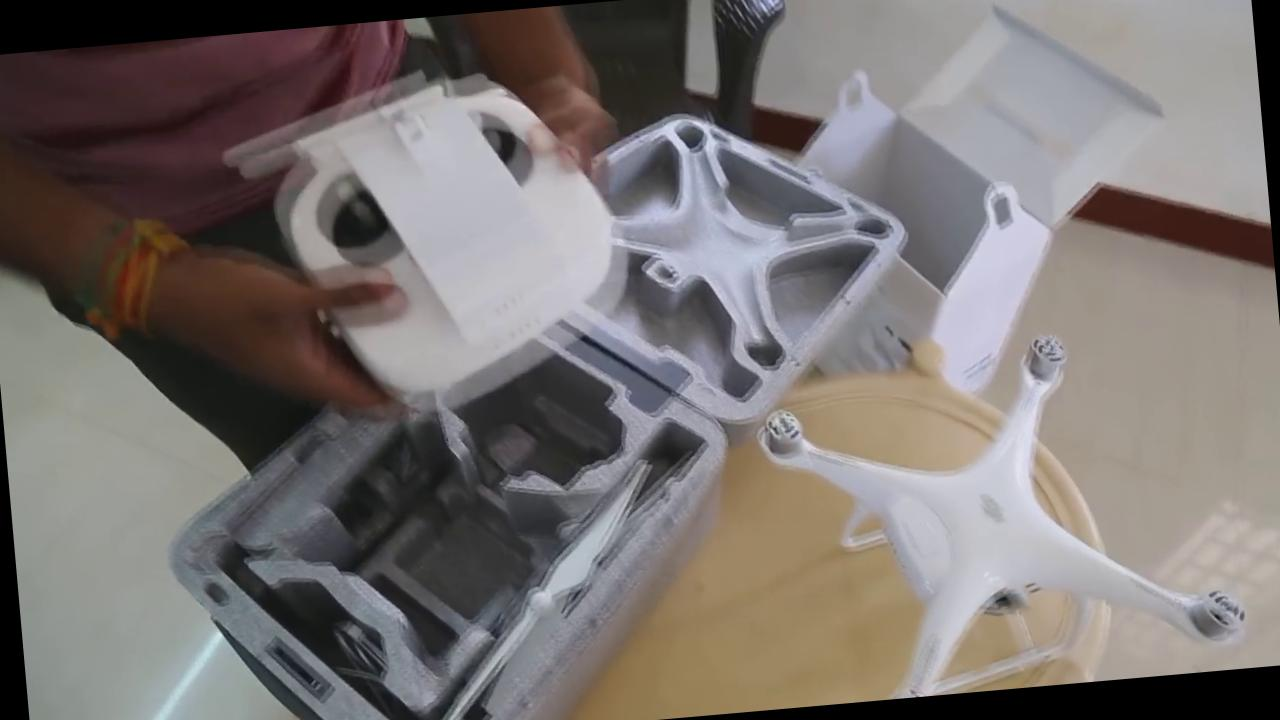drone: (747, 318, 1262, 710)
